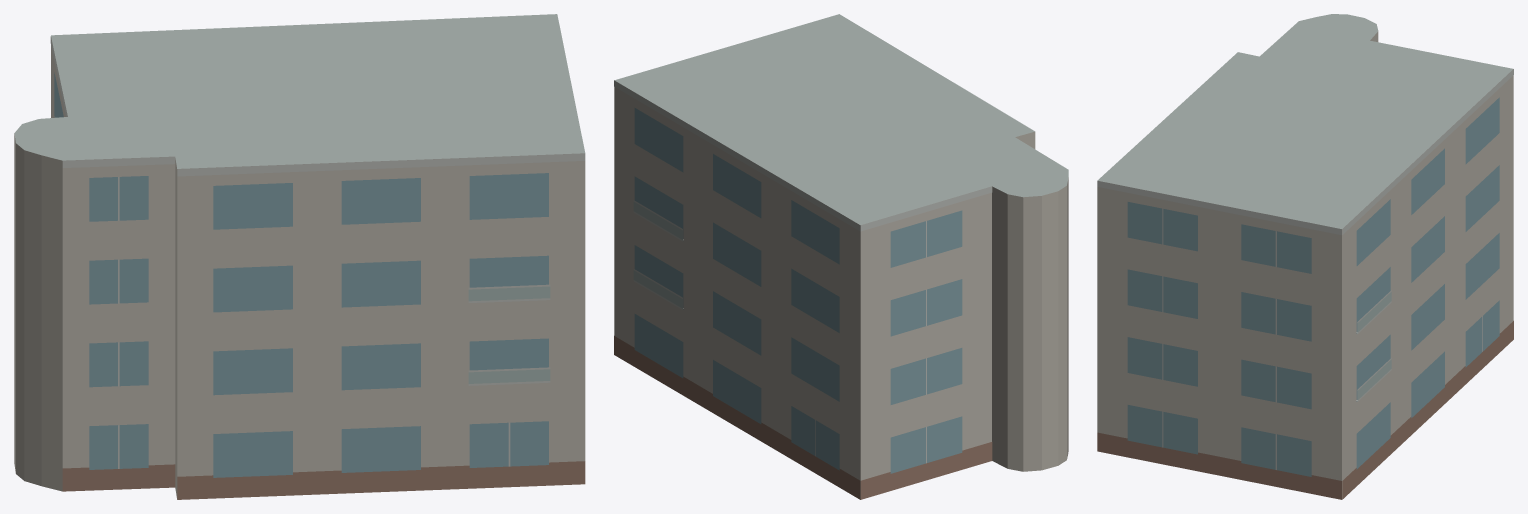
The model's file is survey-upis-32525218.glb.
The picture shows the model from 3 angles, left to right: view 1: azimuth 30°, elevation 25°; view 2: azimuth 150°, elevation 25°; view 3: azimuth 270°, elevation 25°; orthographic projection. The views are drawn at different scales.
Visible parts, largest first — view 1: survey-upis-32525218.tmp; view 2: survey-upis-32525218.tmp; view 3: survey-upis-32525218.tmp.
Boxes of the visible parts, left/top/right/bottom form: survey-upis-32525218.tmp: left=14, top=14, right=585, bottom=499; survey-upis-32525218.tmp: left=614, top=14, right=1068, bottom=499; survey-upis-32525218.tmp: left=1097, top=14, right=1513, bottom=499.
Bounding box in the file's own units: 18.23 × 10.69 × 14.91.
